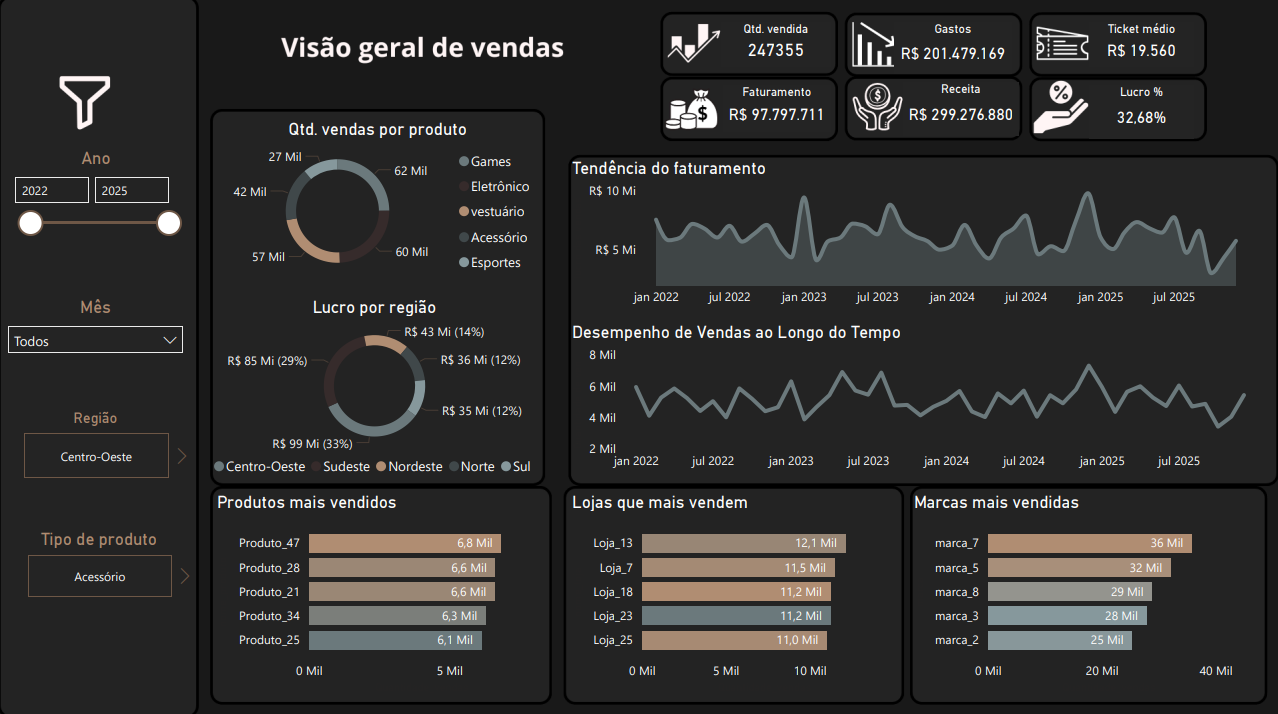

This screenshot's page, from the dashboard's own definition file:
{"tool":"powerbi","page":{"name":"Página 1","canvas":[1280,720],"ordinal":0},"visuals":[{"type":"card","title":"Faturamento","fields":{"Values":["medidas.lucro_total"]},"box":[724.6,85.6,108,47.7],"z":0},{"type":"card","title":"Qtd. vendida","fields":{"Values":["medidas.Quantidade_vendas"]},"box":[722.7,23.3,109.9,44.7],"z":1000},{"type":"card","title":"Ticket médio","fields":{"Values":["medidas.ticket_medio"]},"box":[1091.3,23.3,105,44.7],"z":2000},{"type":"card","title":"Receita","fields":{"Values":["medidas.lucro_venda"]},"box":[904.6,82.7,116.7,54.5],"z":3000},{"type":"card","title":"Gastos","fields":{"Values":["medidas.gasto_total"]},"box":[895.8,23.3,118.7,51.6],"z":4000},{"type":"card","title":"Lucro %","fields":{"Values":["medidas.lucro_percentual"]},"box":[1091.3,85.6,105,54.5],"z":5000},{"type":"slicer","title":"Mês","fields":{"Values":["tabela_principal.data_transacao.Variation.Hierarquia de datas.Mês"]},"box":[0,297.6,194.5,74.9],"z":6000},{"type":"donutChart","title":"Qtd. vendas por produto","fields":{"Category":["tabela_principal.tipo_produto"],"Y":["medidas.Quantidade_vendas"]},"box":[214,119.6,331.7,165.3],"z":7000},{"type":"donutChart","title":"Lucro por região","fields":{"Category":["tabela_principal.regiao"],"Y":["medidas.lucro_venda"]},"box":[207.2,297.6,338.5,188.7],"z":8000},{"type":"lineChart","title":"Desempenho de Vendas ao Longo do Tempo","fields":{"Y":["medidas.Quantidade_vendas"],"Category":["tabela_principal.data_transacao.Variation.Hierarquia de datas.Ano","tabela_principal.data_transacao.Variation.Hierarquia de datas.Mês"]},"box":[569,322.9,703.2,156.6],"z":9000},{"type":"lineChart","title":"Tendência do faturamento","fields":{"Category":["tabela_principal.data_transacao.Variation.Hierarquia de datas.Ano","tabela_principal.data_transacao.Variation.Hierarquia de datas.Mês"],"Y":["medidas.lucro_venda"]},"box":[569,158.5,695.4,157.6],"z":10000},{"type":"barChart","title":"Produtos mais vendidos","fields":{"Category":["tabela_principal.nome_produto"],"Y":["medidas.Quantidade_vendas"]},"box":[214,493.1,342.4,206.2],"z":11000},{"type":"barChart","title":"Marcas mais vendidas","fields":{"Category":["tabela_principal.marca"],"Y":["medidas.Quantidade_vendas"]},"box":[911.4,493.1,342.4,206.2],"z":12000},{"type":"clusteredBarChart","title":"Lojas que mais vendem","fields":{"Category":["tabela_principal.nome_loja"],"Y":["medidas.Quantidade_vendas","select"]},"box":[569,493.1,342.4,206.2],"z":13000},{"type":"slicer","title":"Ano","fields":{"Values":["tabela_principal.data_transacao.Variation.Hierarquia de datas.Ano"]},"box":[3.9,148.8,187.7,136.2],"z":14000},{"type":"slicer","title":"Região","fields":{"Values":["tabela_principal.regiao"]},"box":[0,411.4,194.5,74.9],"z":15000},{"type":"slicer","title":"Tipo de produto","fields":{"Values":["tabela_principal.tipo_produto"]},"box":[3.9,530.1,194.5,74.9],"z":16000}]}

Visuals, with their boxes in screenshot pixels (x1, y1, x2, y2), scaled from the page's 1280x720 canvas onto the 1278x714 screenshot:
"Faturamento" card: x1=723, y1=85, x2=831, y2=132
"Qtd. vendida" card: x1=722, y1=23, x2=831, y2=67
"Ticket médio" card: x1=1090, y1=23, x2=1194, y2=67
"Receita" card: x1=903, y1=82, x2=1020, y2=136
"Gastos" card: x1=894, y1=23, x2=1013, y2=74
"Lucro %" card: x1=1090, y1=85, x2=1194, y2=139
"Mês" slicer: x1=0, y1=295, x2=194, y2=369
"Qtd. vendas por produto" donutChart: x1=214, y1=119, x2=545, y2=283
"Lucro por região" donutChart: x1=207, y1=295, x2=545, y2=482
"Desempenho de Vendas ao Longo do Tempo" lineChart: x1=568, y1=320, x2=1270, y2=476
"Tendência do faturamento" lineChart: x1=568, y1=157, x2=1262, y2=313
"Produtos mais vendidos" barChart: x1=214, y1=489, x2=556, y2=693
"Marcas mais vendidas" barChart: x1=910, y1=489, x2=1252, y2=693
"Lojas que mais vendem" clusteredBarChart: x1=568, y1=489, x2=910, y2=693
"Ano" slicer: x1=4, y1=148, x2=191, y2=283
"Região" slicer: x1=0, y1=408, x2=194, y2=482
"Tipo de produto" slicer: x1=4, y1=526, x2=198, y2=600
